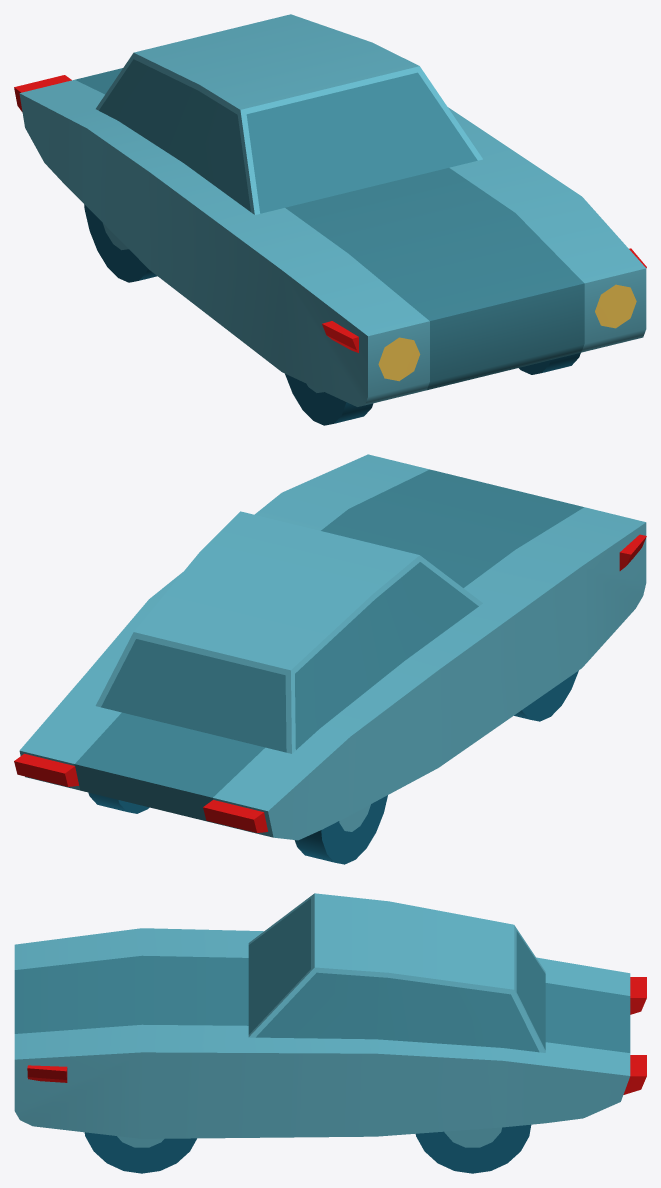
File: car01.fbx
The picture shows the model from 3 angles, top to bottom: view 1: azimuth 30°, elevation 25°; view 2: azimuth 150°, elevation 25°; view 3: azimuth 270°, elevation 25°; orthographic projection. The views are drawn at different scales.
Parts seen in each view (by area): view 1: car01; view 2: car01; view 3: car01.
Part boxes in pixels (x1,y1,x2,y2): car01: (14,14,646,425); car01: (14,454,646,864); car01: (14,893,646,1173).
Bounding box in the file's own units: 342 × 242 × 716.
